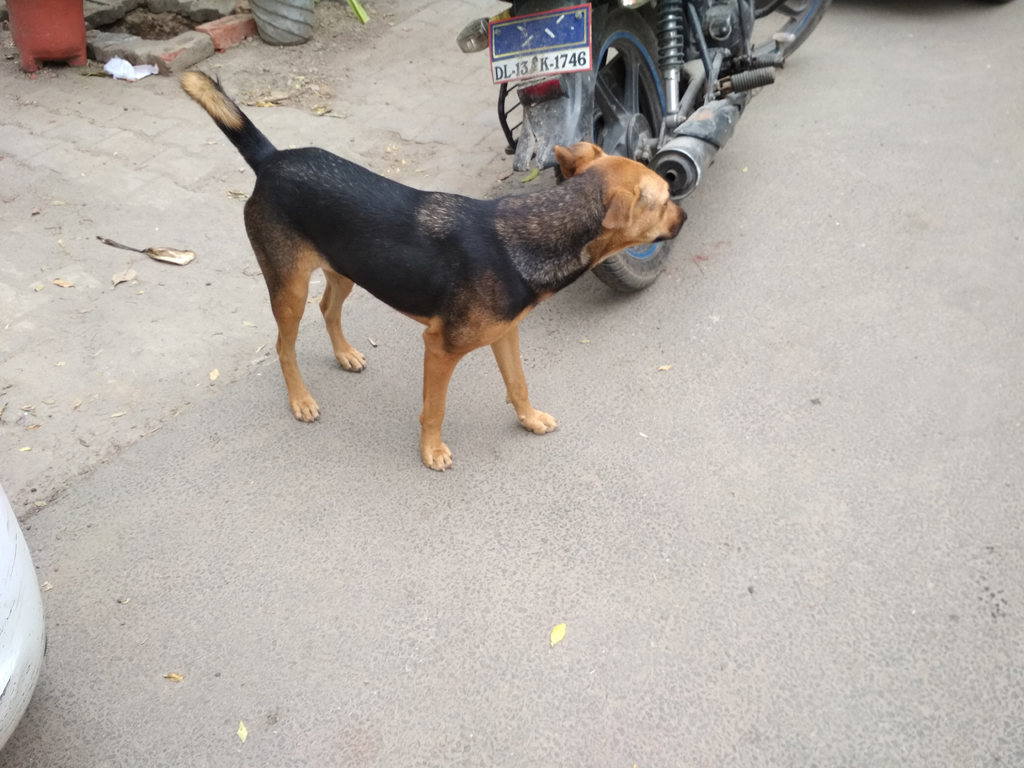dog: (178, 72, 687, 472)
